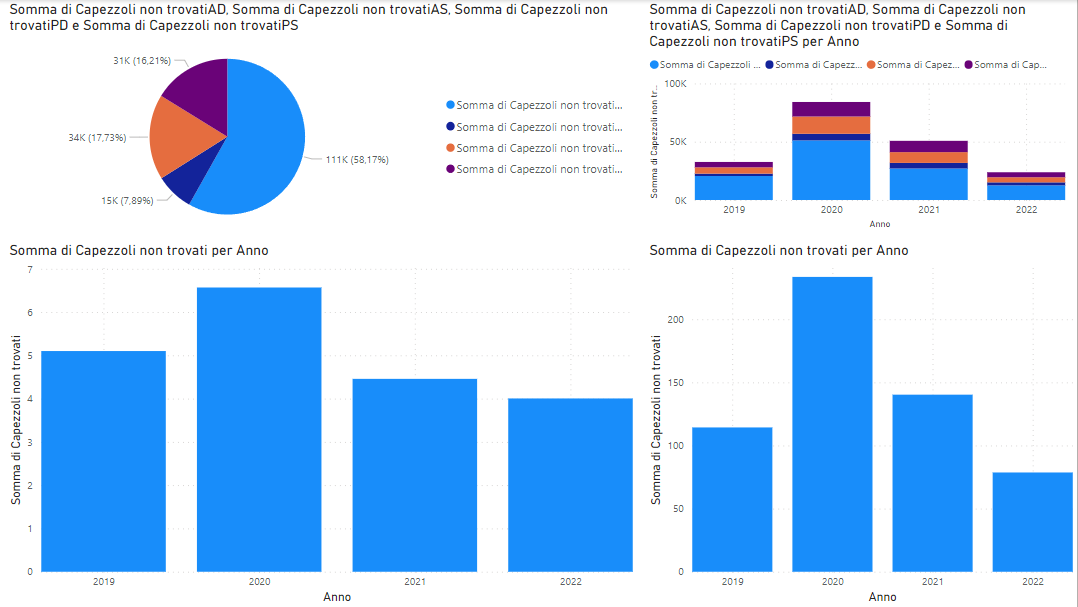

The dashboard page shown, as its layout file describes it:
{"tool":"powerbi","page":{"name":"Capezzoli","canvas":[1280,720],"ordinal":0},"visuals":[{"type":"pieChart","fields":{"Y":["Sum(Informazioni_generali.Capezzoli non trovatiAD)","Sum(Informazioni_generali.Capezzoli non trovatiAS)","Sum(Informazioni_generali.Capezzoli non trovatiPD)","Sum(Informazioni_generali.Capezzoli non trovatiPS)"]},"box":[9.5,0,749,285.6],"z":0},{"type":"columnChart","fields":{"Category":["Informazioni_generali.Anno.Variazione.Gerarchia data.Anno","Informazioni_generali.Anno.Variazione.Gerarchia data.Trimestre","Informazioni_generali.Anno.Variazione.Gerarchia data.Mese","Informazioni_generali.Anno.Variazione.Gerarchia data.Giorno"],"Y":["Sum(Informazioni_generali.Capezzoli non trovatiAD)","Sum(Informazioni_generali.Capezzoli non trovatiAS)","Sum(Informazioni_generali.Capezzoli non trovatiPD)","Sum(Informazioni_generali.Capezzoli non trovatiPS)"]},"box":[768,0,502.5,276.1],"z":1000},{"type":"columnChart","fields":{"Category":["Informazioni_per_animale_univoc.Anno.Variazione.Gerarchia data.Anno","Informazioni_per_animale_univoc.Anno.Variazione.Gerarchia data.Trimestre","Informazioni_per_animale_univoc.Anno.Variazione.Gerarchia data.Mese","Informazioni_per_animale_univoc.Anno.Variazione.Gerarchia data.Giorno"],"Y":["Sum(Informazioni_per_animale_univoc.Capezzoli non trovati)"]},"box":[768,285.6,512,435],"z":2000},{"type":"columnChart","fields":{"Category":["Informazioni_per_animale_totali.Anno.Variazione.Gerarchia data.Anno","Informazioni_per_animale_totali.Anno.Variazione.Gerarchia data.Trimestre","Informazioni_per_animale_totali.Anno.Variazione.Gerarchia data.Mese","Informazioni_per_animale_totali.Anno.Variazione.Gerarchia data.Giorno"],"Y":["Sum(Informazioni_per_animale_totali.Capezzoli non trovati)"]},"box":[9.5,285.6,749,435],"z":3000}]}

Visuals, with their boxes in screenshot pixels (x1, y1, x2, y2), scaled from the page's 1280x720 canvas onto the 1078x607 screenshot:
pieChart - Sum(Informazioni_generali.Capezzoli non trovatiAD) x Sum(Informazioni_generali.Capezzoli non trovatiAS): 8:0:639:241
columnChart - Informazioni_generali.Anno.Variazione.Gerarchia data.Anno x Informazioni_generali.Anno.Variazione.Gerarchia data.Trimestre: 647:0:1070:233
columnChart - Informazioni_per_animale_univoc.Anno.Variazione.Gerarchia data.Anno x Informazioni_per_animale_univoc.Anno.Variazione.Gerarchia data.Trimestre: 647:241:1077:606
columnChart - Informazioni_per_animale_totali.Anno.Variazione.Gerarchia data.Anno x Informazioni_per_animale_totali.Anno.Variazione.Gerarchia data.Trimestre: 8:241:639:606
